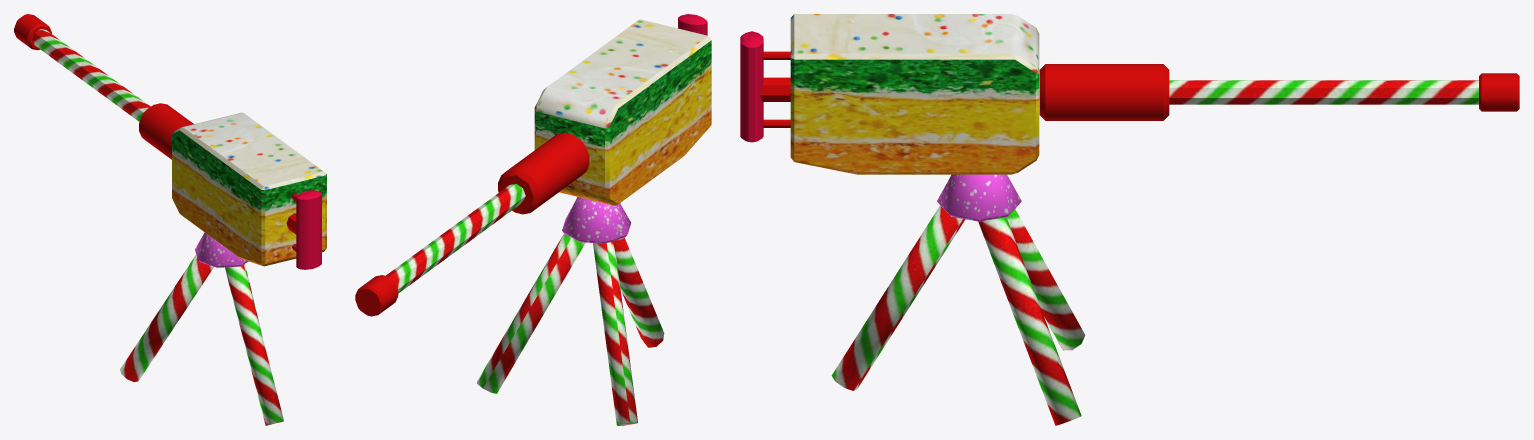
File: temp gun.fbx
3 renders of one model, left to right at view 1: azimuth 30°, elevation 25°; view 2: azimuth 150°, elevation 25°; view 3: azimuth 270°, elevation 25°, orthographic. The views are drawn at different scales.
Visible parts, largest first — view 1: Gun, Stand; view 2: Gun, Stand; view 3: Gun, Stand.
Boxes of the visible parts, x1,y1,x2,y2 form: Gun: (14, 14, 326, 269); Stand: (120, 232, 283, 425); Gun: (355, 14, 711, 316); Stand: (477, 197, 664, 425); Gun: (740, 14, 1519, 174); Stand: (831, 174, 1085, 425).
Bounding box in the file's own units: 375 × 670 × 1332.
